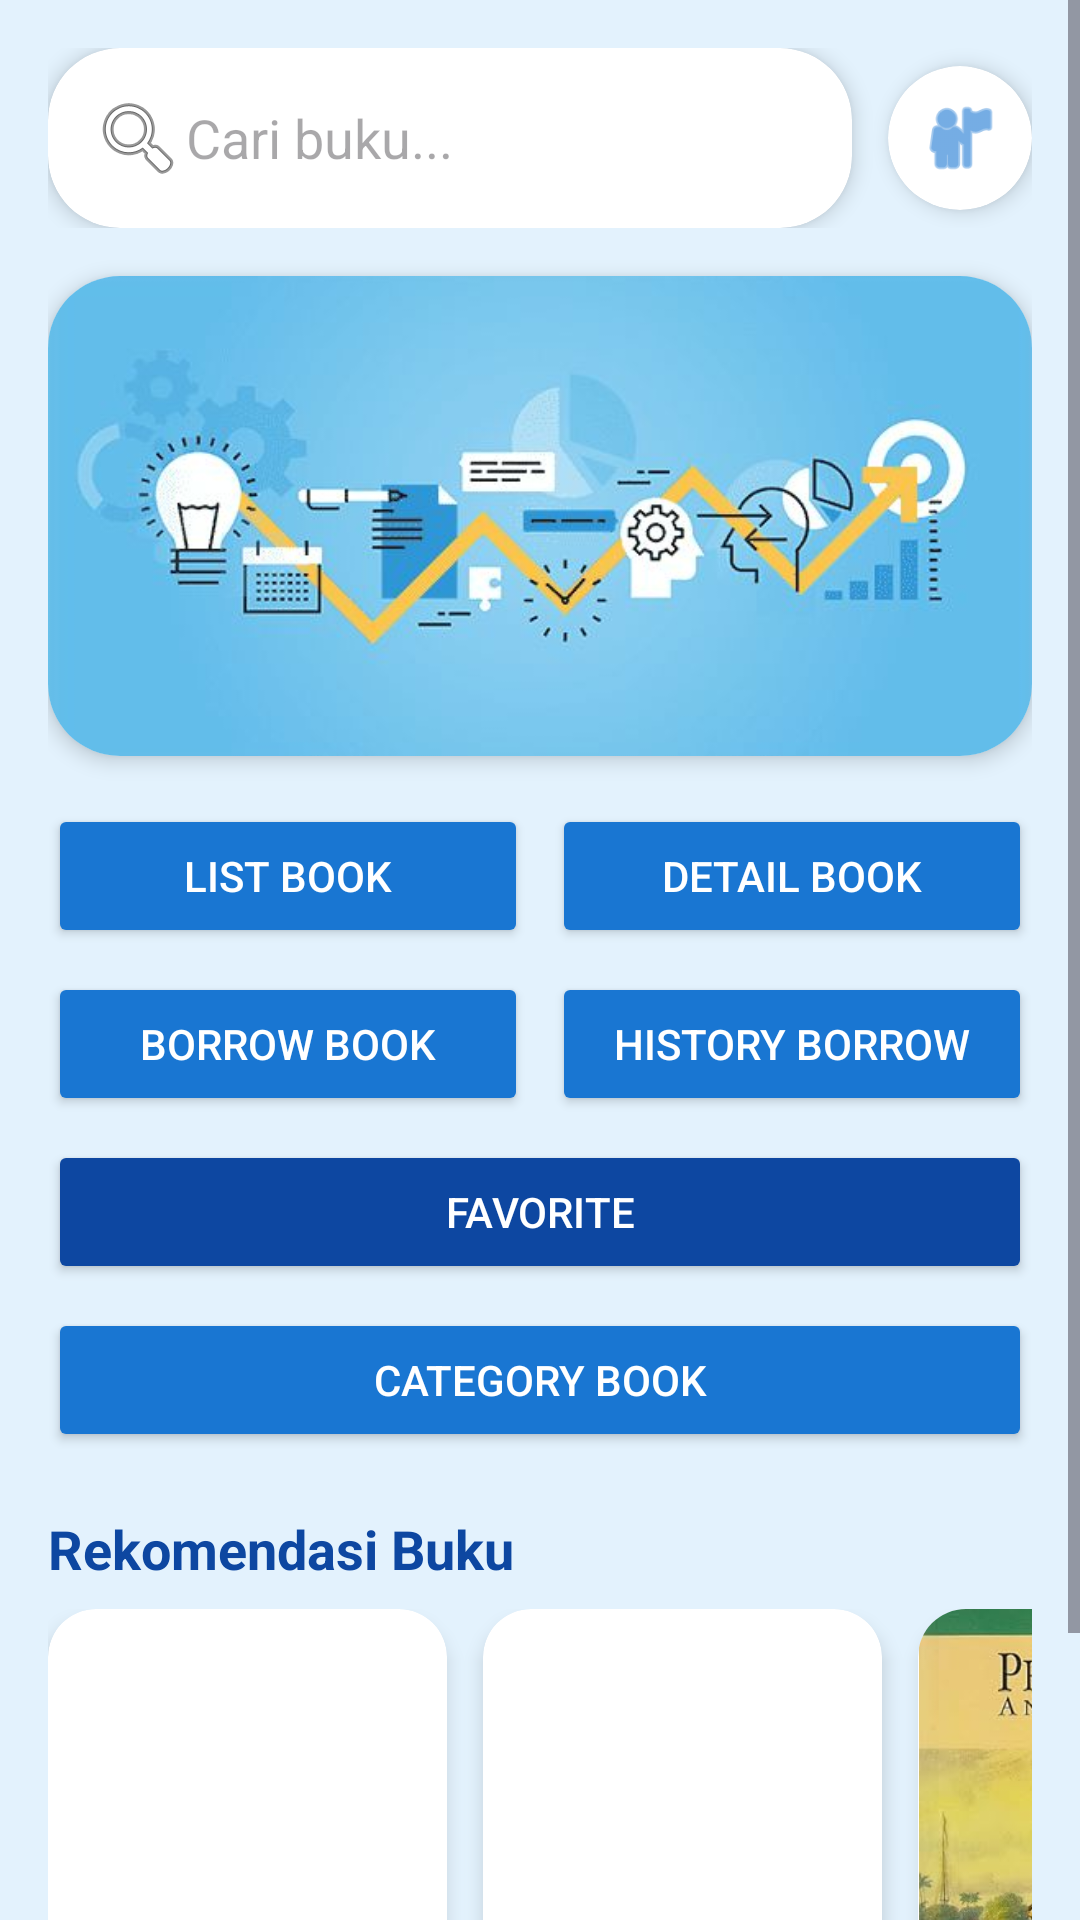

Named icons in this screenshot (1080*1920) and their centers, (x,y):
Profile: (960,138)
